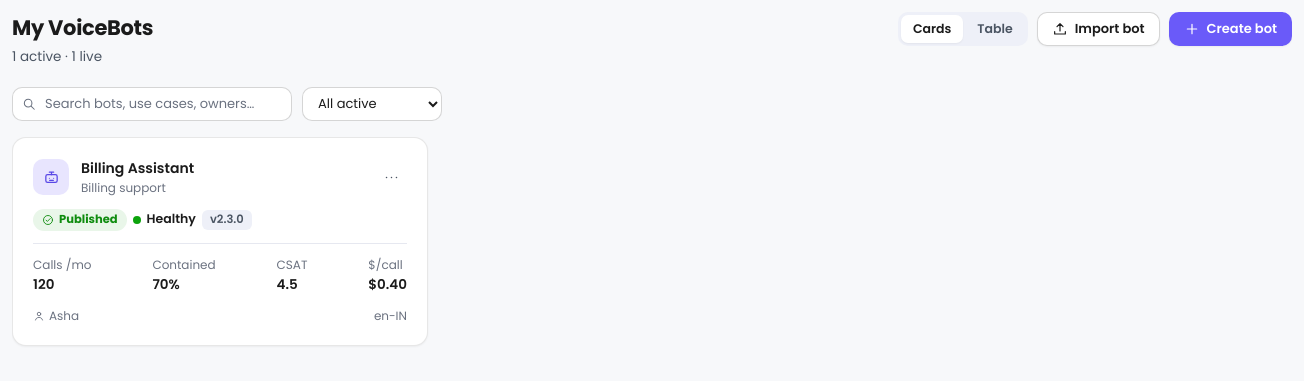
Test case: Archived filter › explains an empty archive instead of offering to create a bot
expect the text "Billing Assistant" is shown: met, box [81,158,194,178]
Select "Archived" in the dropdown named "Filter by status" at point(372, 104), box [302,87,442,121]
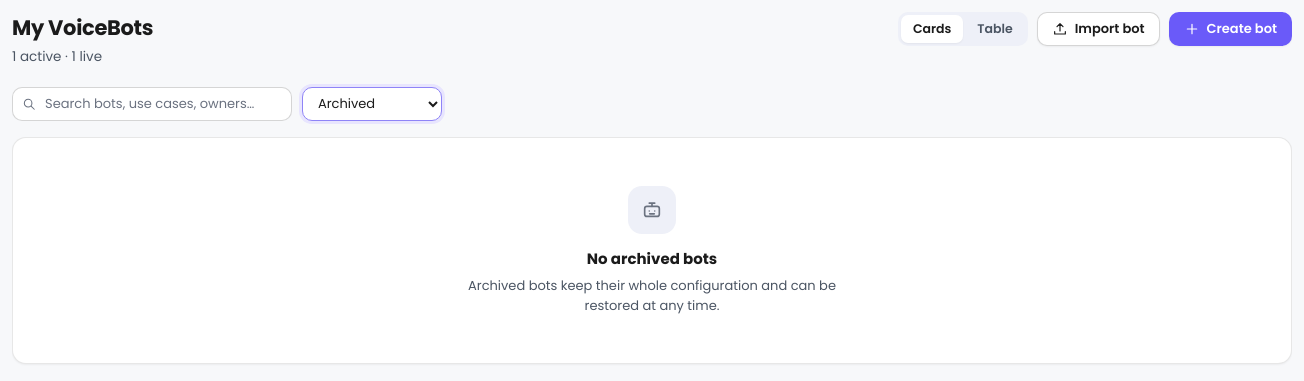
expect the number of buttons "Create bot" is 1: met, box [1169,12,1292,46]
expect the text "No archived bots" is shown: met, box [587,248,717,270]
